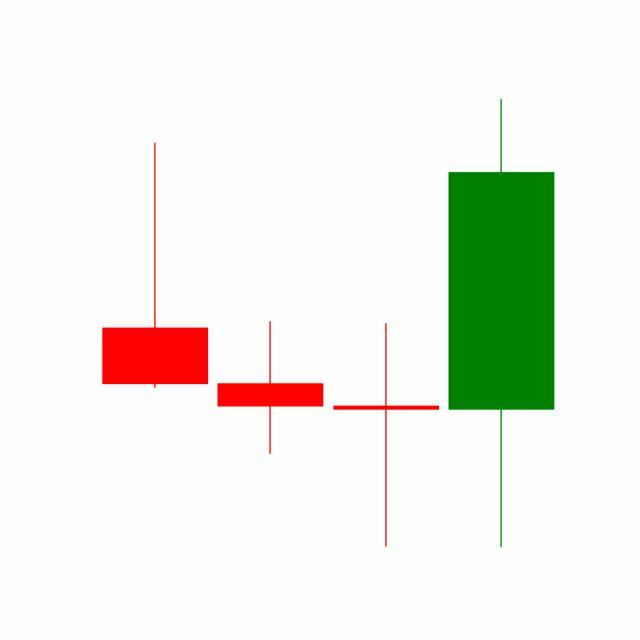Spinning Top: (329, 322, 445, 551)
